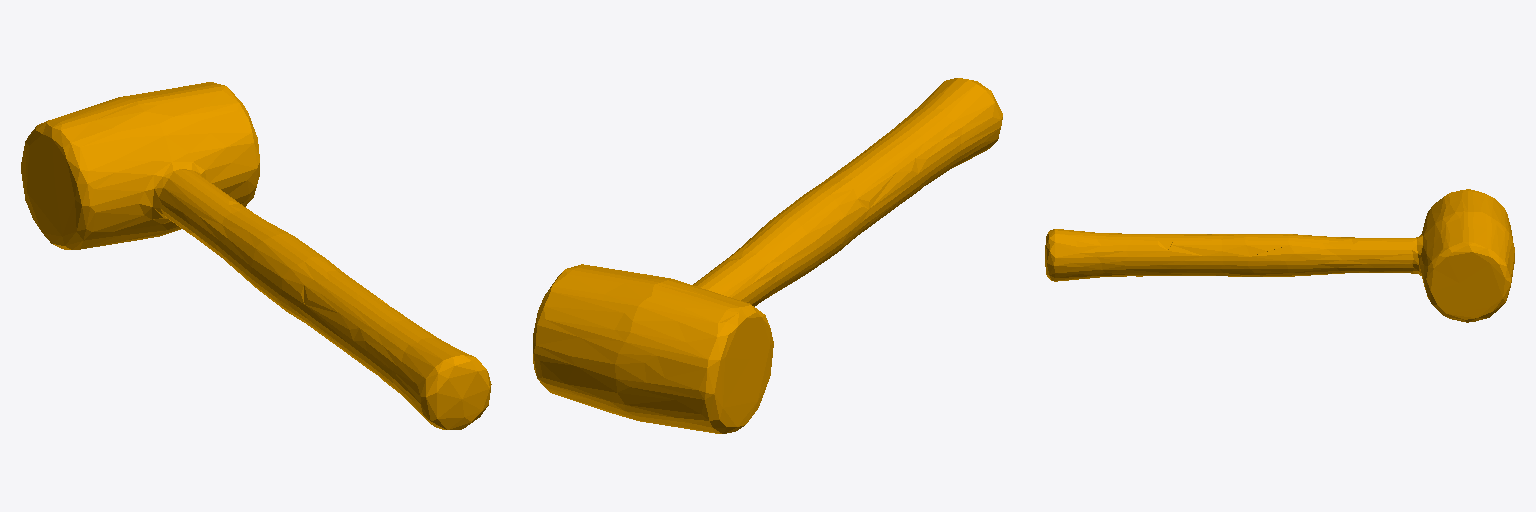
URDF robot description (hammer_poisson_011):
<?xml version="1.0"?>
<robot name="hammer_poisson_011">
  <link name="base_link">
    <contact>
      <lateral_friction value="1.0"/>
      <rolling_friction value="0.0"/>
      <contact_cfm value="0.0"/>
      <contact_erp value="1.0"/>
    </contact>
    <inertial>
      <mass value="0.165900842684"/>
      <inertia ixx="1" ixy="0" ixz="0" iyy="1" iyz="0" izz="1"/>
    </inertial>
    <visual>
      <geometry>
        <mesh filename="hammer_poisson_011_visual.obj"/>
      </geometry>
    </visual>
    <collision>
      <geometry>
        <mesh filename="hammer_poisson_011_collision.obj"/>
      </geometry>
    </collision>
  </link>
</robot>

--- What the picture shows (computed from the rendered views, not written in the file) ---
The picture shows the robot from 3 angles, left to right: view 1: azimuth 30°, elevation 25°; view 2: azimuth 150°, elevation 25°; view 3: azimuth 270°, elevation 25°; orthographic projection.
Robot: hammer_poisson_011 — 1 links, 0 joints (none); root link base_link; default pose: every joint at zero.
Visible links, largest first — view 1: base_link; view 2: base_link; view 3: base_link.
Link boxes in pixels (<box>): base_link: <box>21,82,491,429</box>; base_link: <box>533,78,1002,433</box>; base_link: <box>1045,189,1514,322</box>.
Bounding box of the posed robot: 0.07 × 0.236 × 0.048 m (x, y, z).
1 mesh visuals loaded from 1 distinct referenced files (1 OBJ).